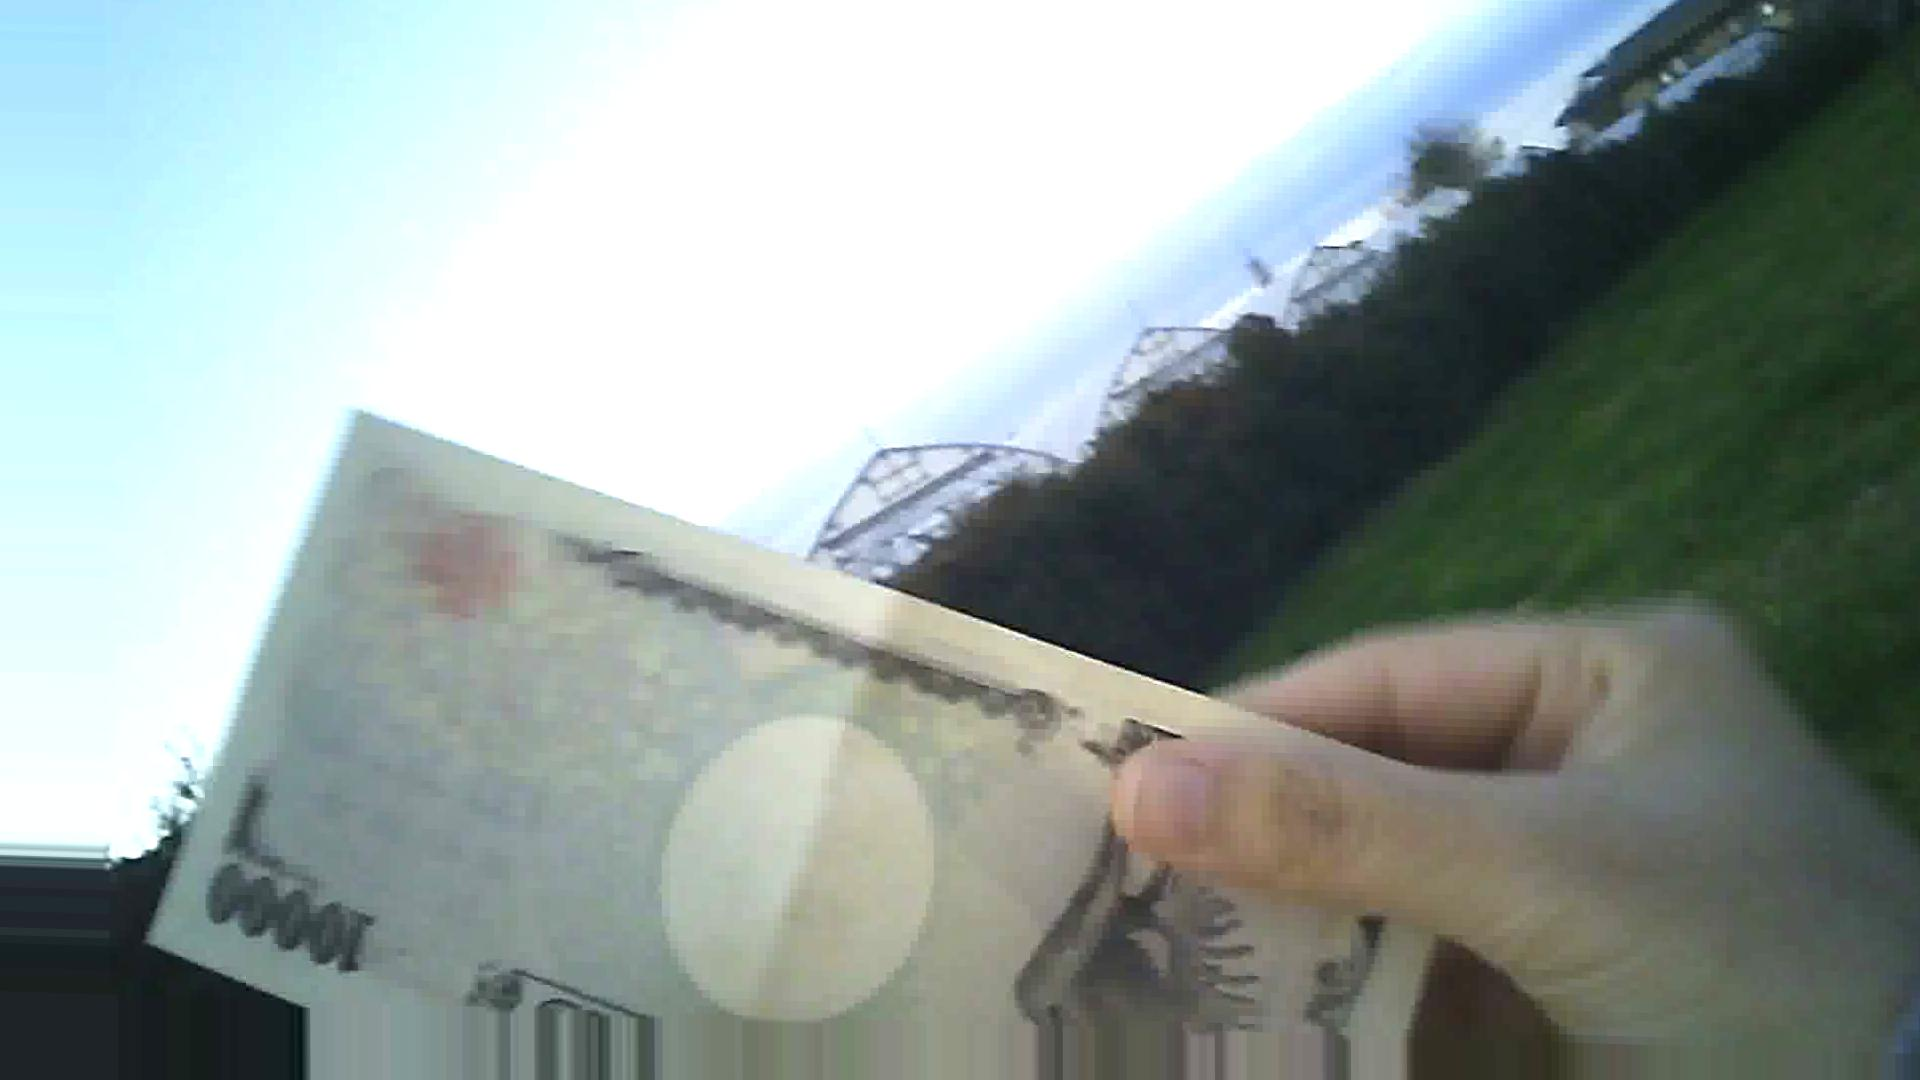10,000 Yen: (161, 413, 1404, 1040)
